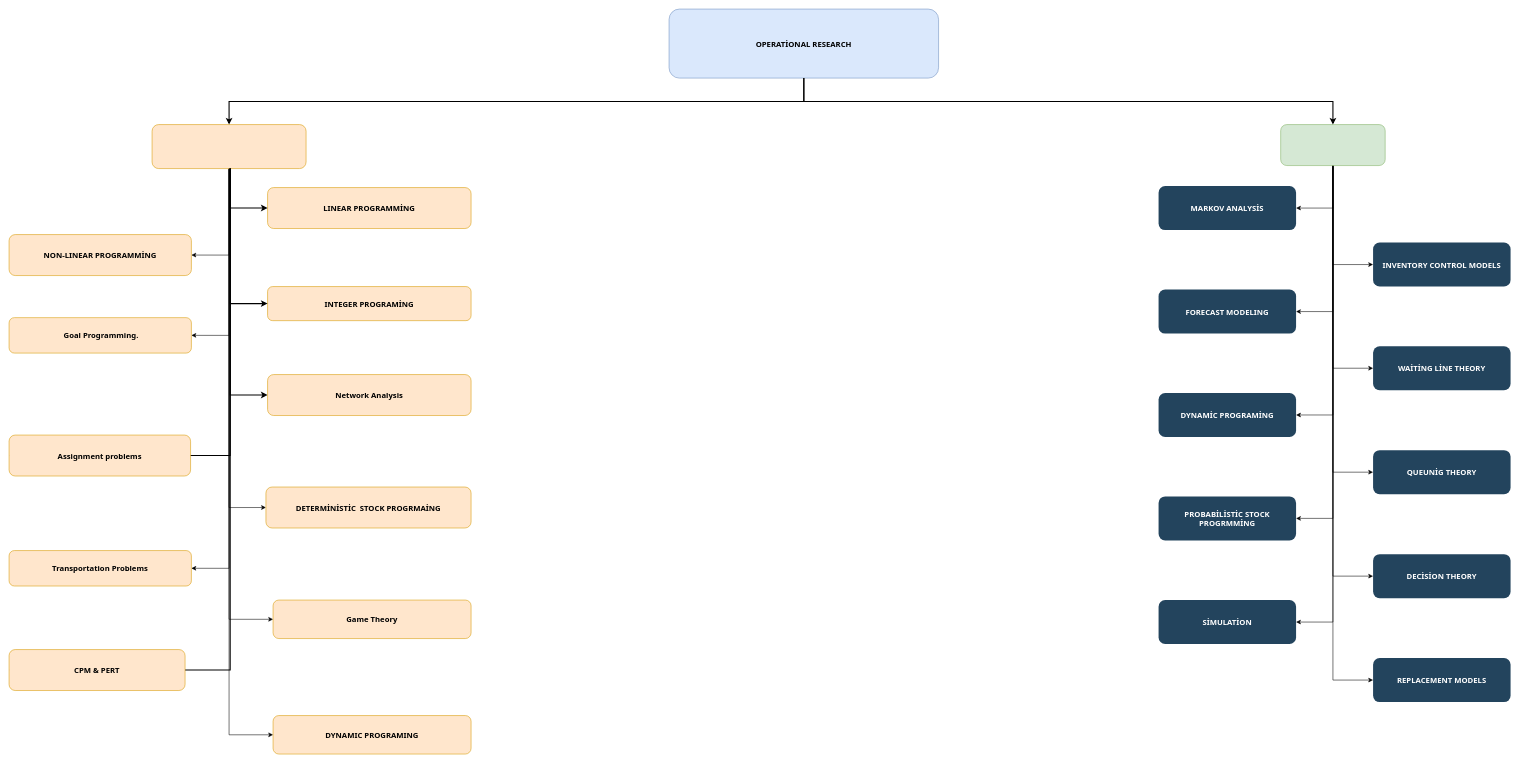
This 1520x763 diagram has some shape labels left out. Each missing label, with the box of its shape:
DETERMİNİSTİC MODELS: (152, 124, 306, 169)
STOKASTİC MODELS: (1280, 124, 1385, 166)
